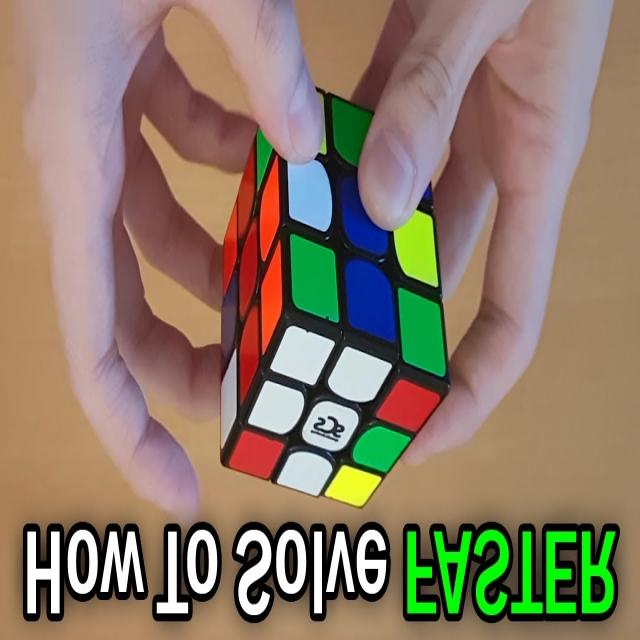cube: (219, 91, 449, 513)
